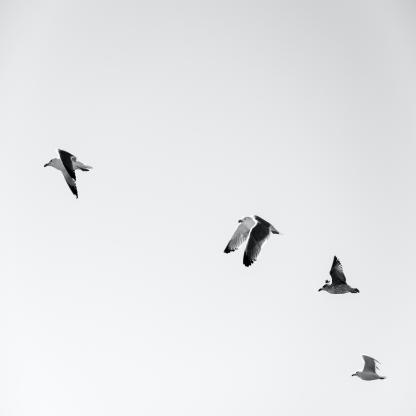bird: (223, 214, 283, 268), (44, 148, 93, 198), (318, 256, 360, 294), (351, 355, 387, 381)
